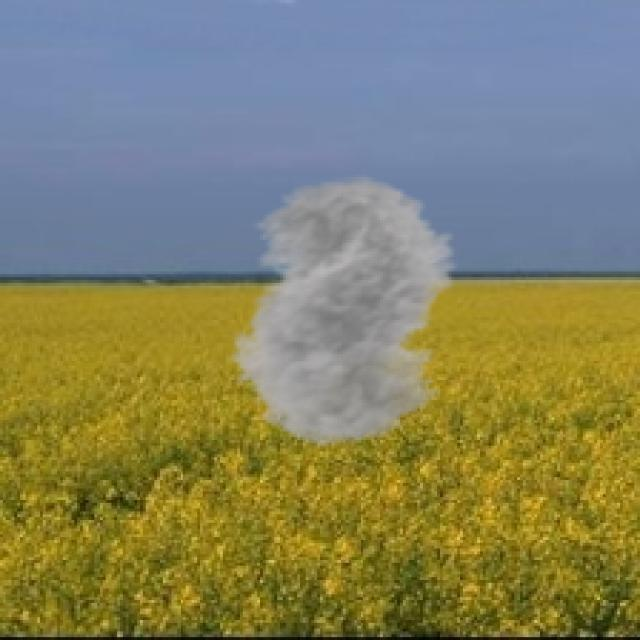smoke: (208, 174, 486, 449)
